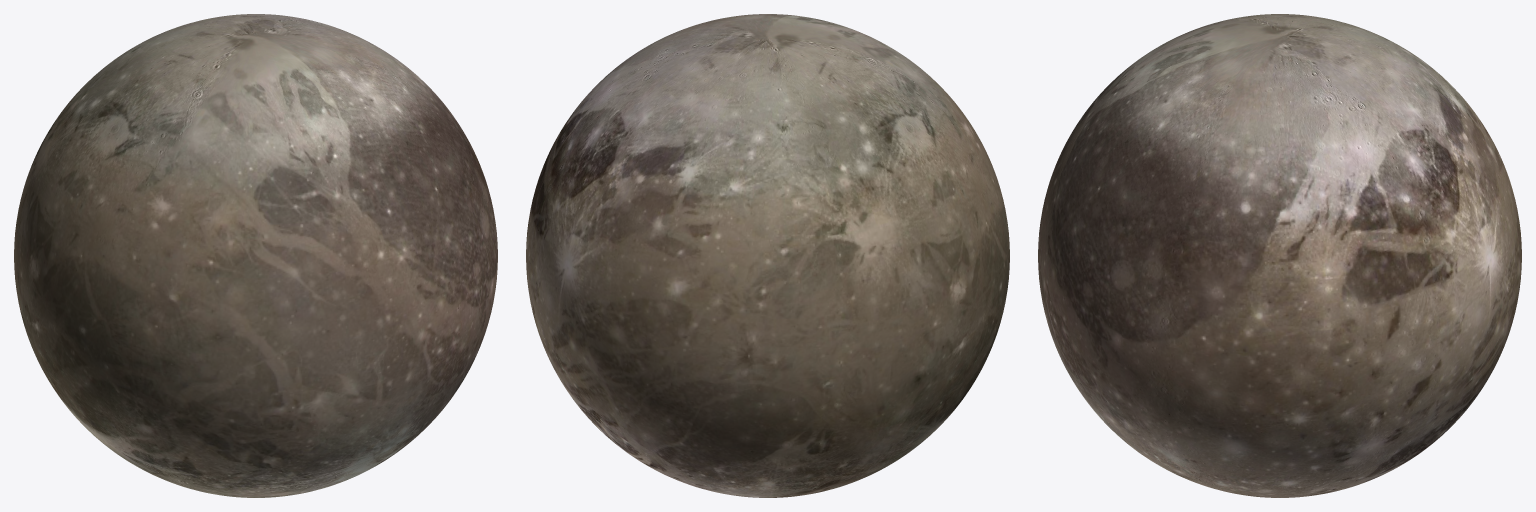
File: ganymede.glb
3 views of the same model, side by side, from view 1: azimuth 30°, elevation 25°; view 2: azimuth 150°, elevation 25°; view 3: azimuth 270°, elevation 25° (orthographic).
Parts seen in each view (by area): view 1: cylindrically_mapped_sphere; view 2: cylindrically_mapped_sphere; view 3: cylindrically_mapped_sphere.
Boxes of the visible parts, x1=… form: cylindrically_mapped_sphere: x1=14, y1=14, x2=497, y2=497; cylindrically_mapped_sphere: x1=526, y1=14, x2=1009, y2=497; cylindrically_mapped_sphere: x1=1038, y1=14, x2=1521, y2=497.
Bounding box in the file's own units: 1000 × 1000 × 1000.
Materials: 1 (1 with a texture image).
